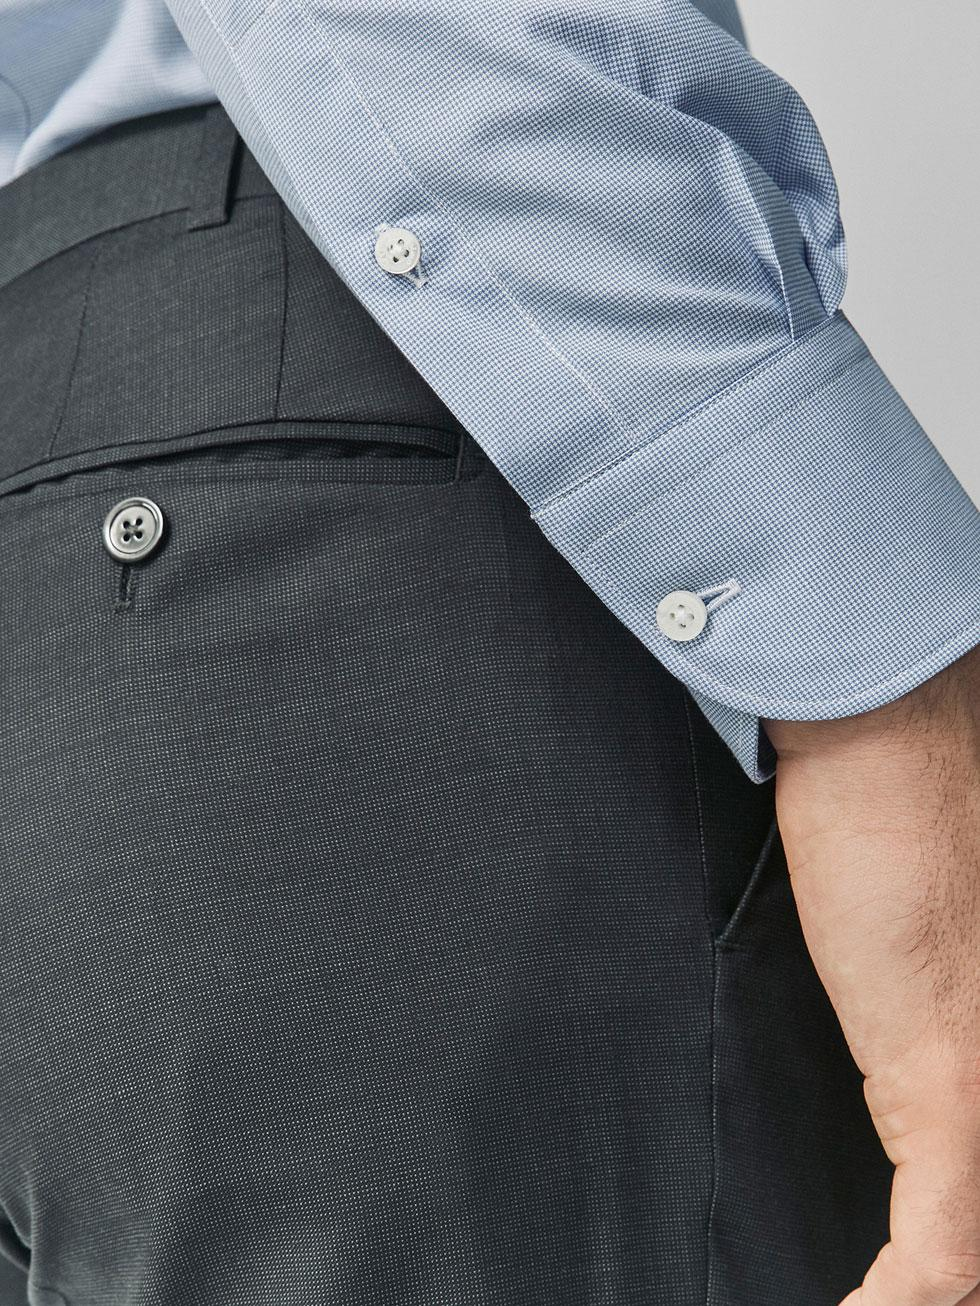teeshirt: (5, 7, 980, 801)
